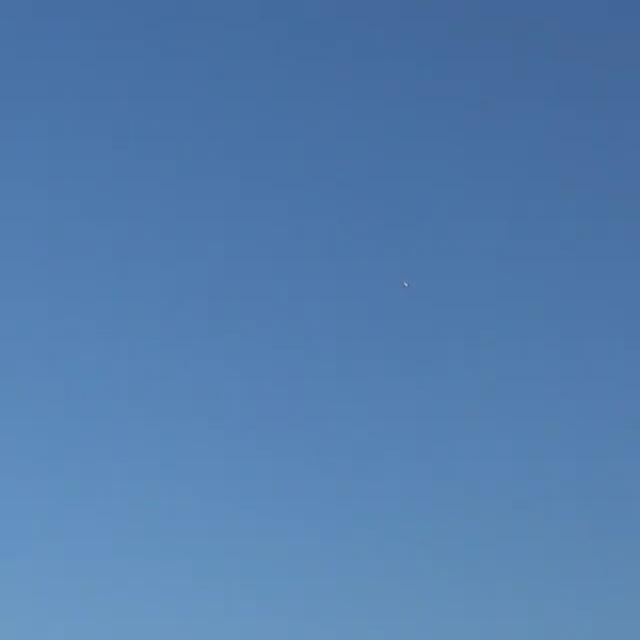AirPlane: (394, 270, 416, 298)
